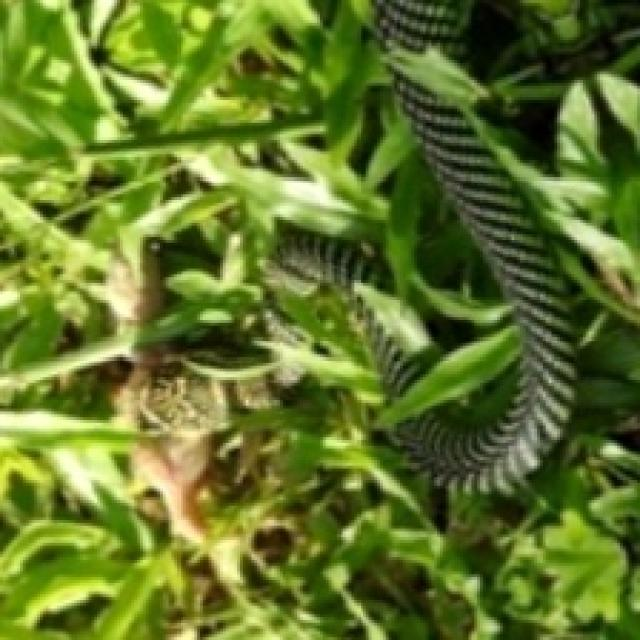paradise tree snake: (377, 0, 580, 486)
